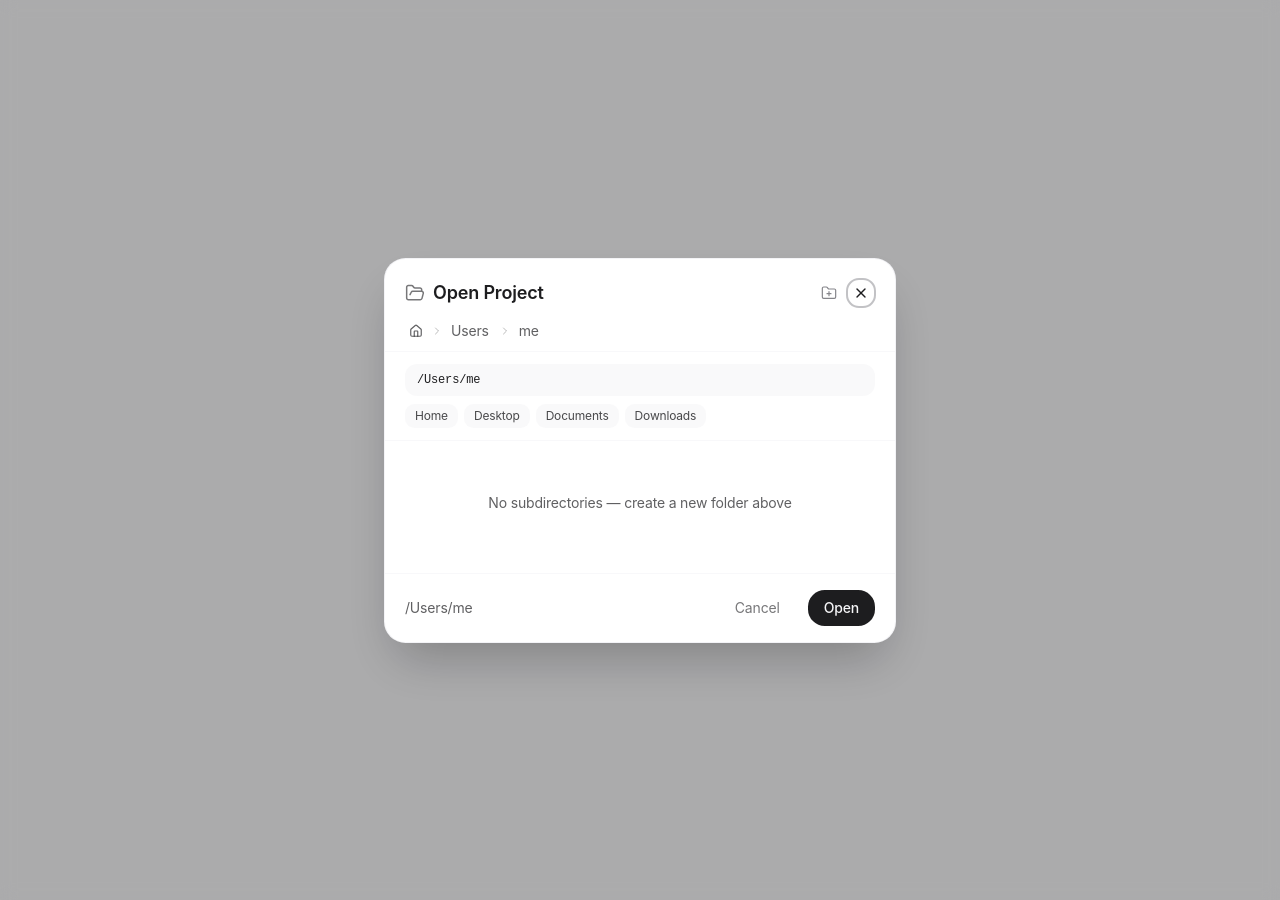
AddProjectModal › after creating a folder, a second new folder can be typed in
The image size is (1280, 900).
Click the button titled "New Folder": point(829, 292) [815, 278, 843, 306]
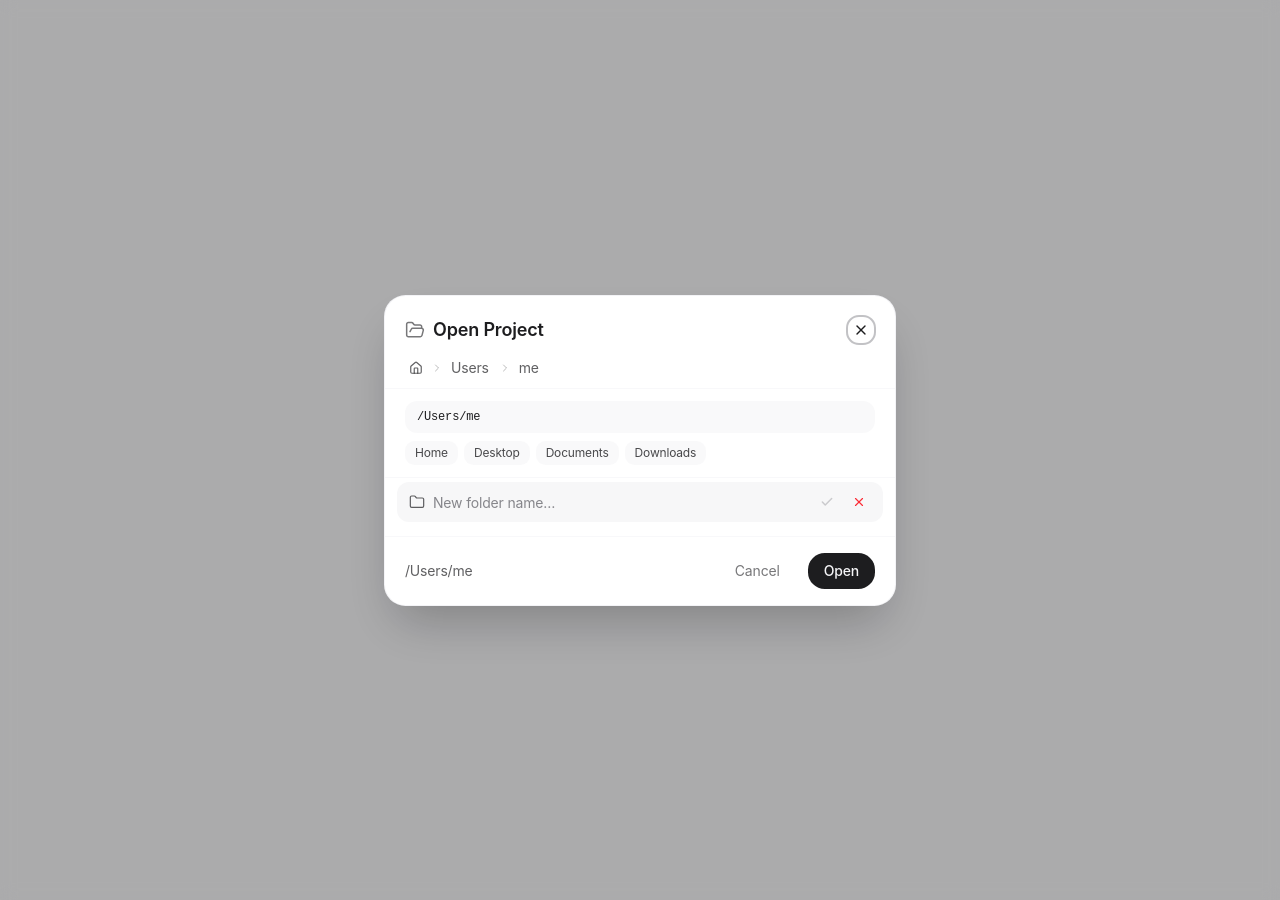
In the field with placeholder "New folder name…": point(620, 502) [433, 492, 807, 512], type "first"
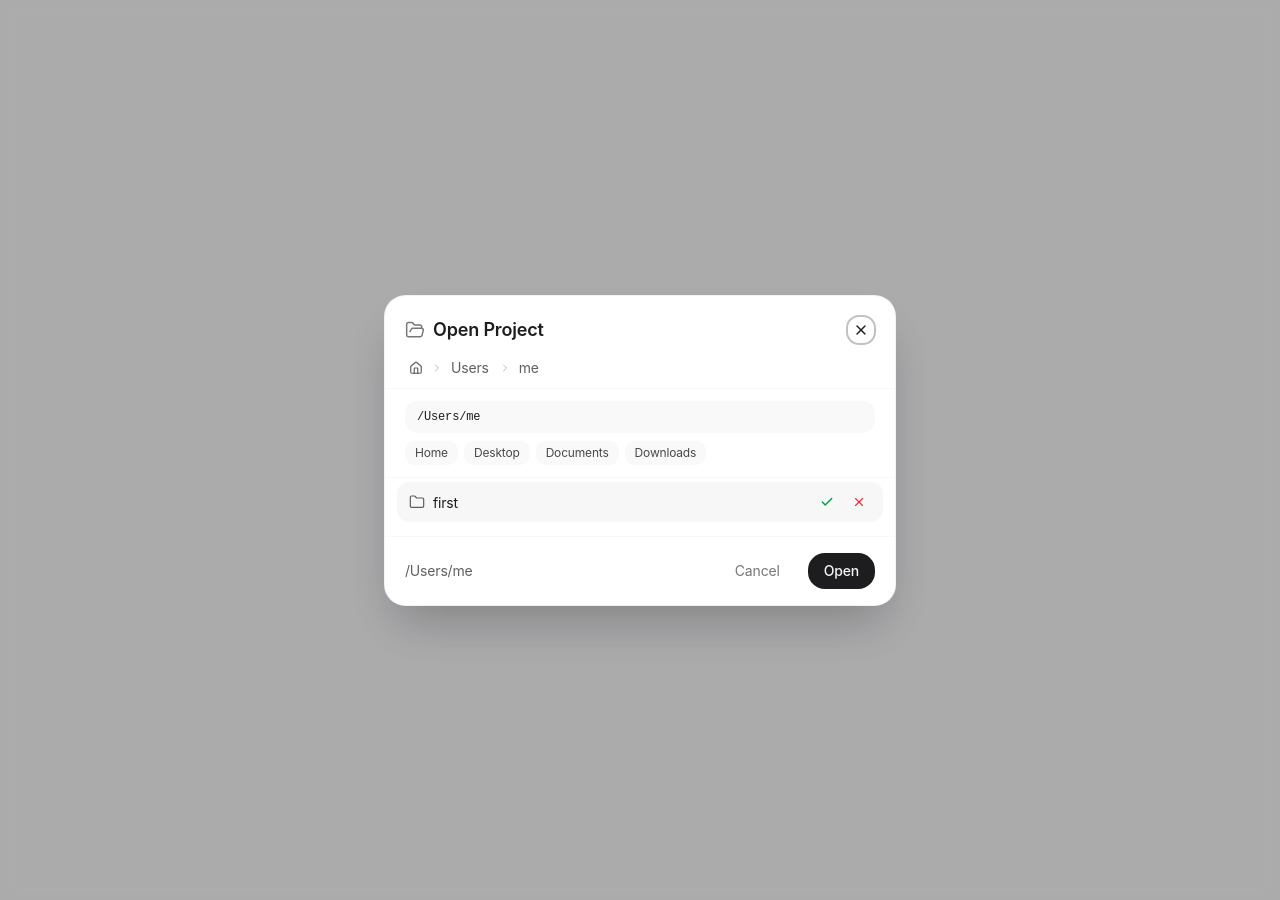
Press Enter in the 2nd field with placeholder "New folder name…", box [433, 492, 807, 512]
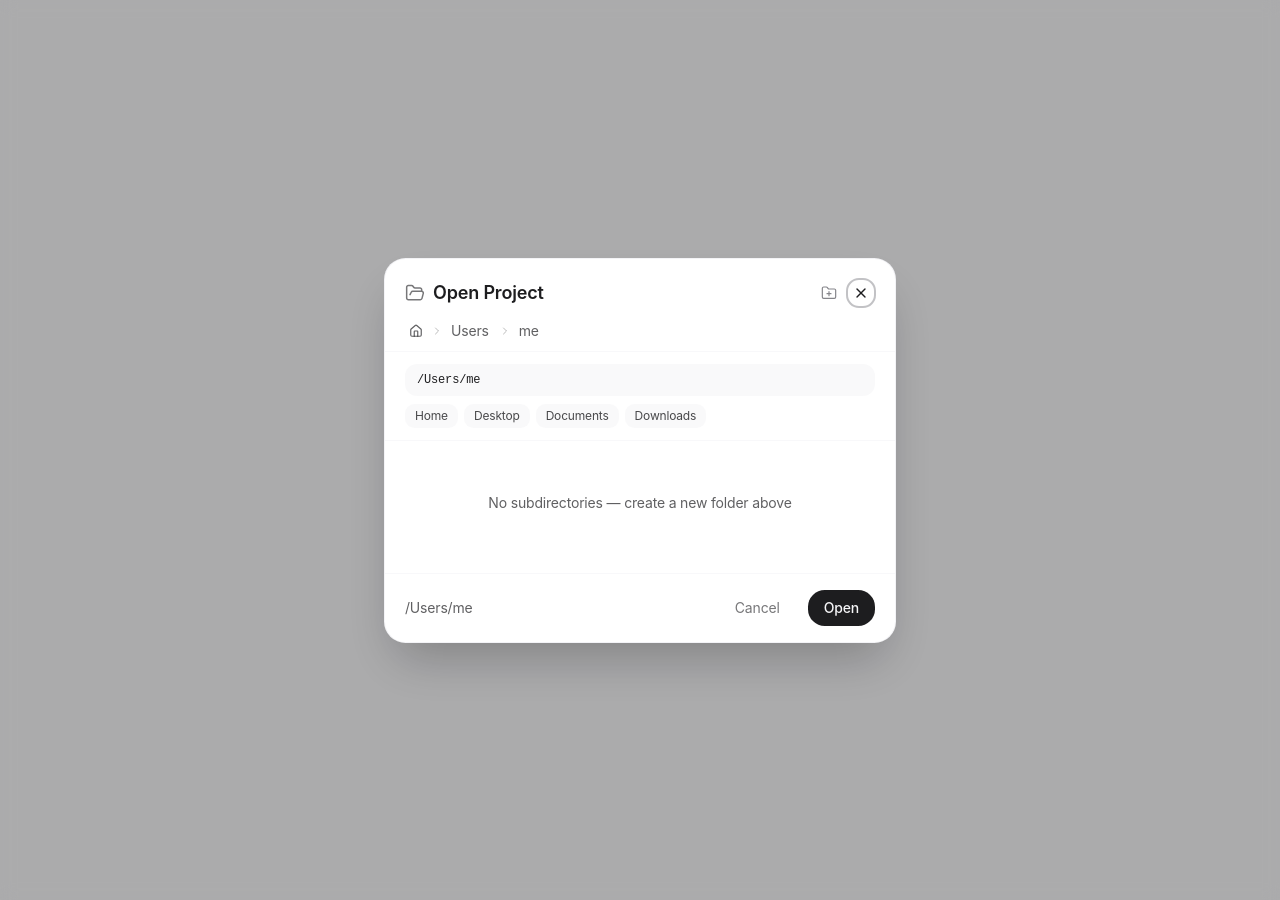
Expected: the field with placeholder "New folder name…" is not shown
Click the button titled "New Folder": point(829, 292) [815, 278, 843, 306]
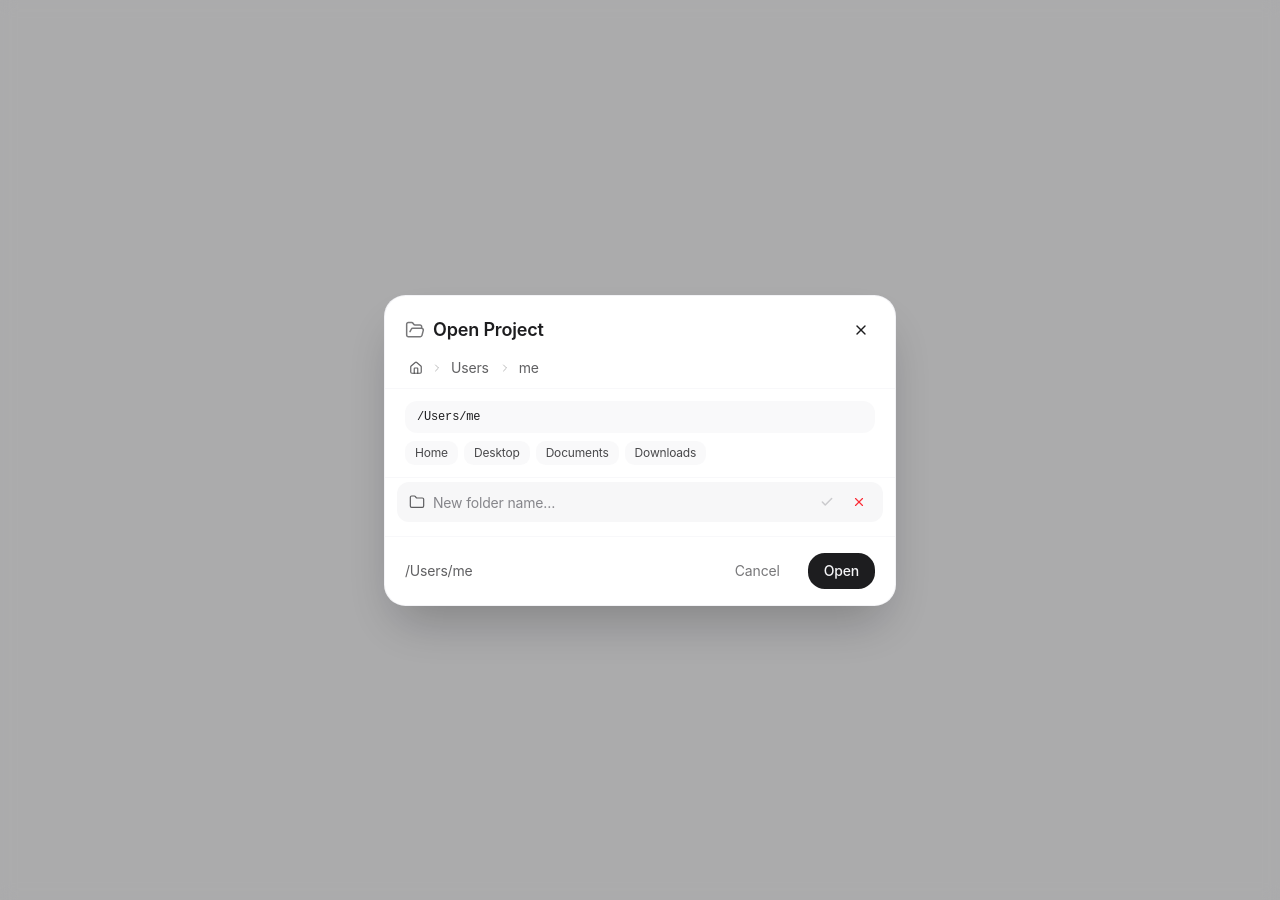
Result: the field with placeholder "New folder name…" is enabled at [433, 492, 807, 512]
